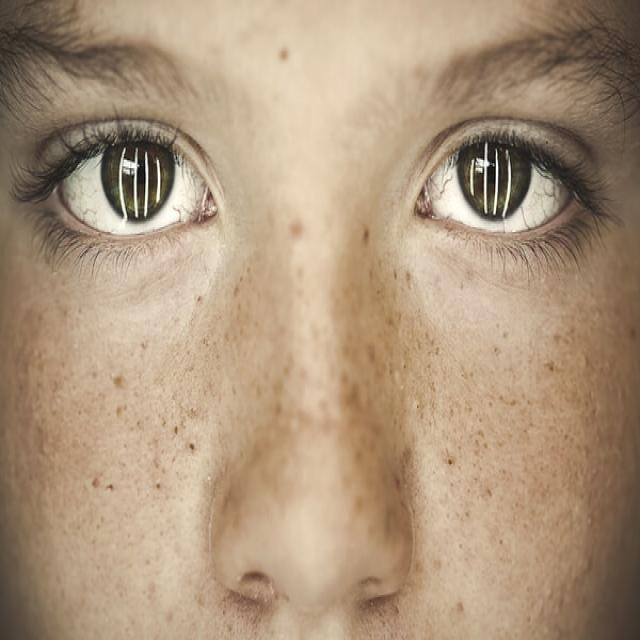Dark-Spots: (8, 208, 640, 562)
